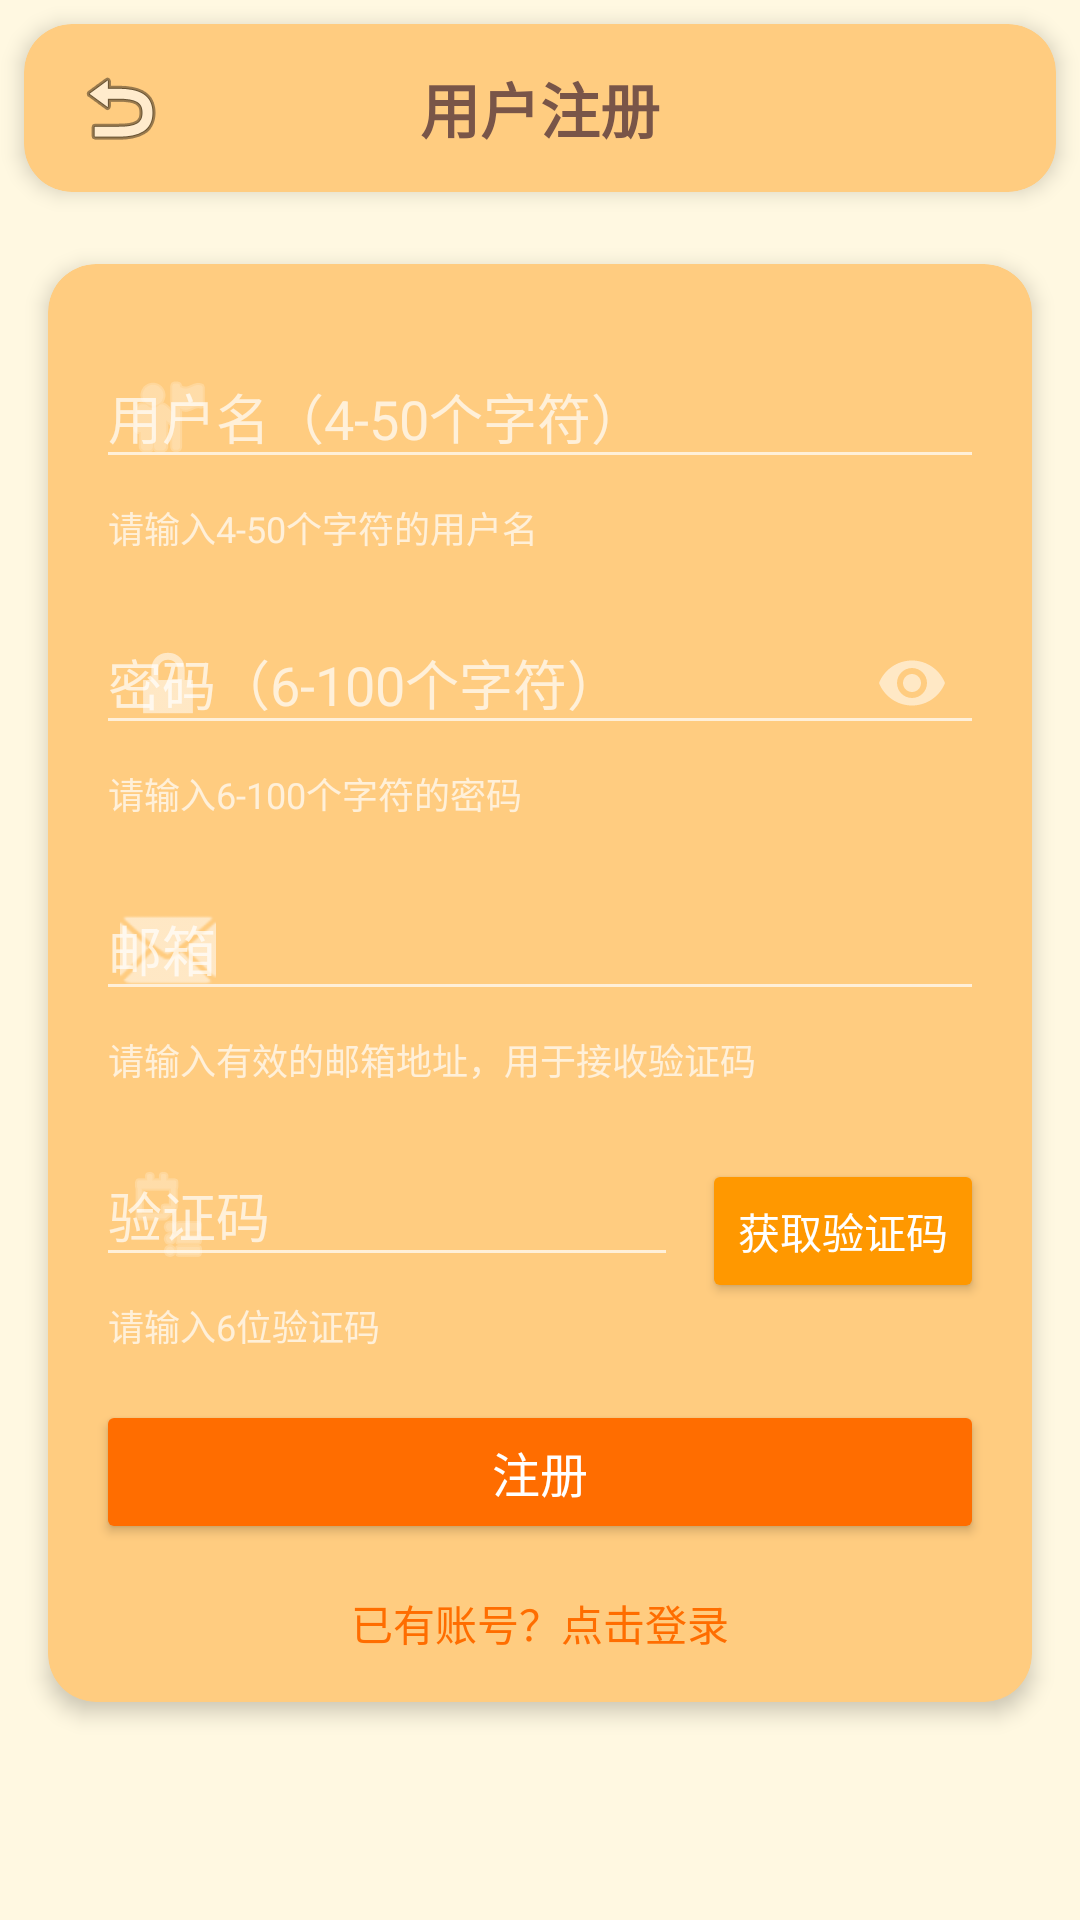

Where icons sit on this 1080*1920 app screen, as bbox(x1, y1, x2, y2):
revert: bbox(87, 77, 156, 140)
